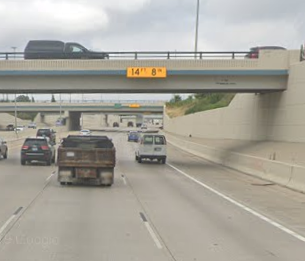1: (130, 67, 135, 76)
4: (133, 66, 141, 77)
8: (149, 66, 158, 77)
overheadsign: (126, 66, 166, 78)
